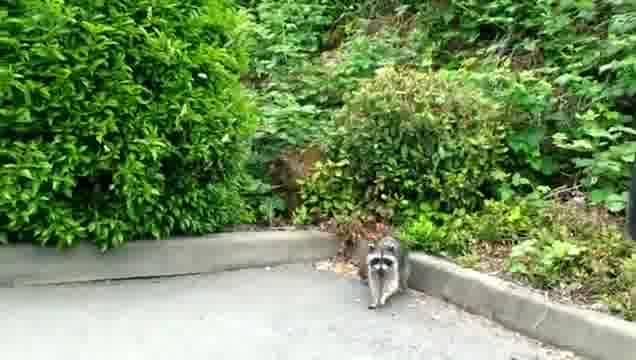raccoon: (366, 234, 412, 309)
